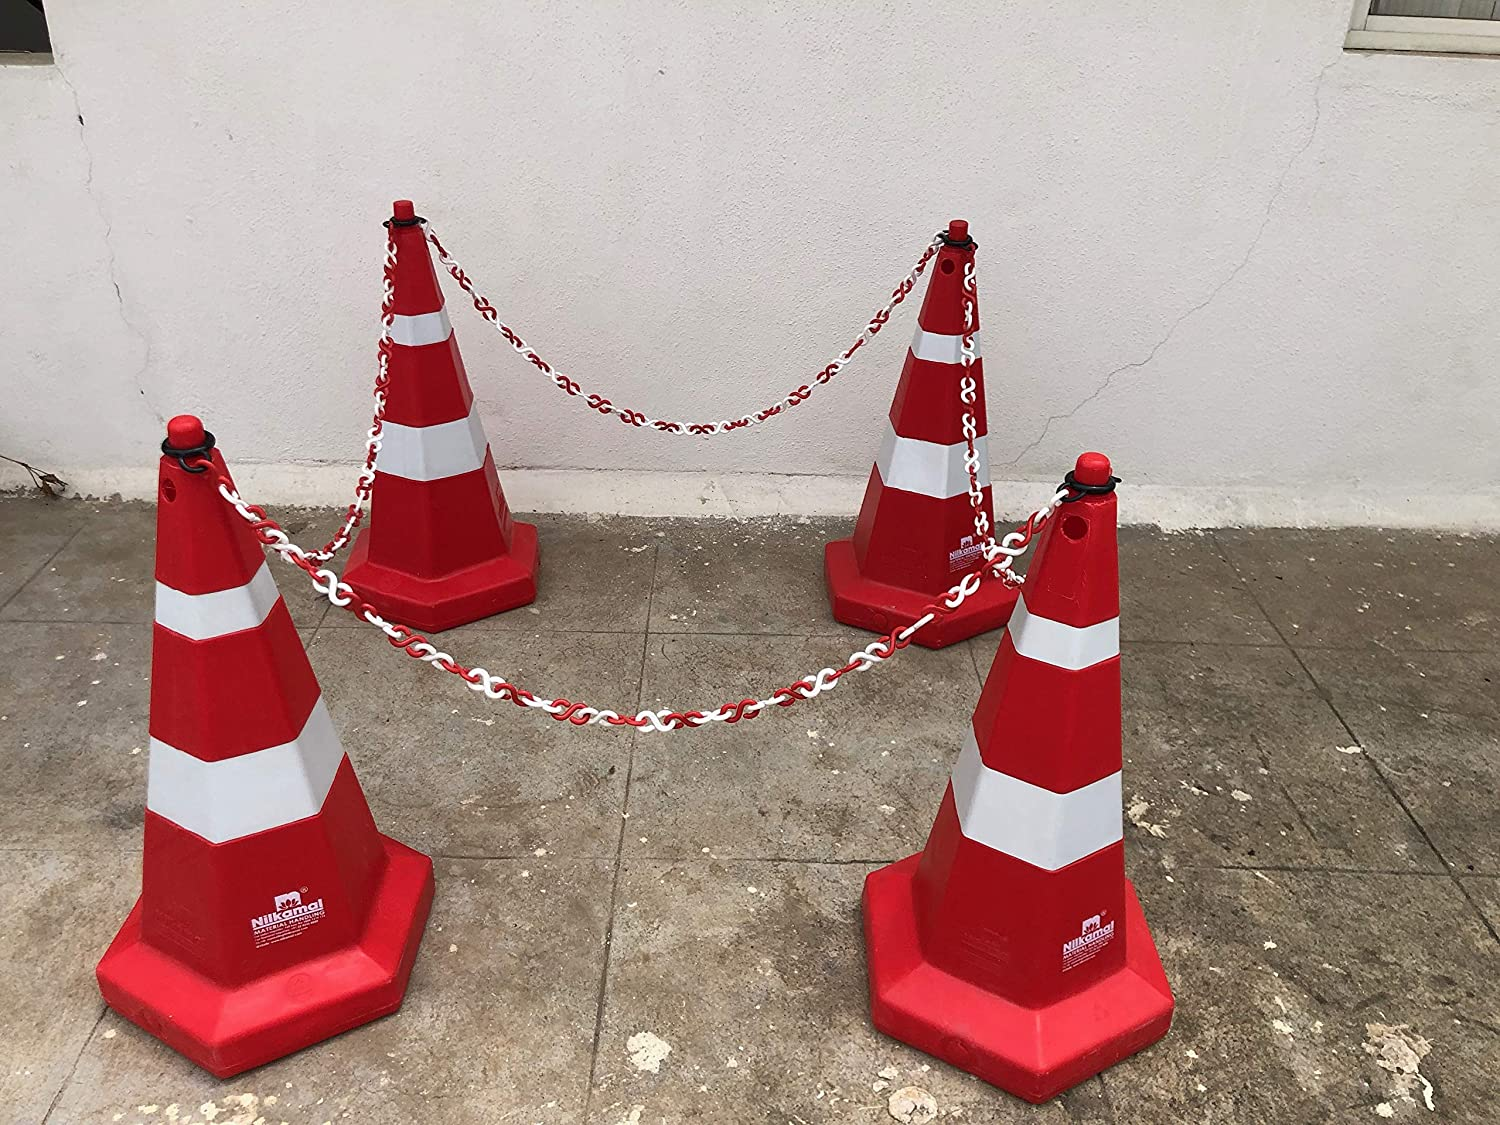cones: (118, 410, 439, 1060), (873, 451, 1191, 1084), (340, 184, 549, 646), (831, 217, 1044, 648)
